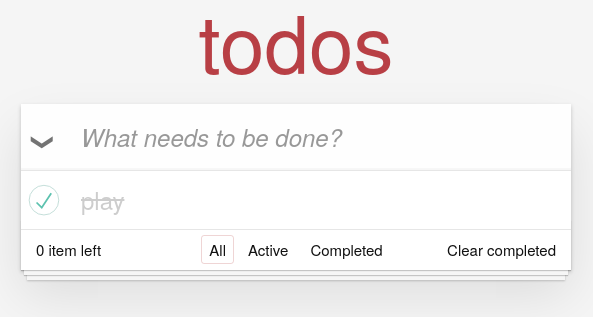
Test: 编辑任务 › 修改任务项文本按下 ESC 后，应该取消编辑状态以及任务项文本保持不变
双击任务项文本获得编辑状态
Double-click the label with test id "todo-text": (103, 199) [21,171,571,229]
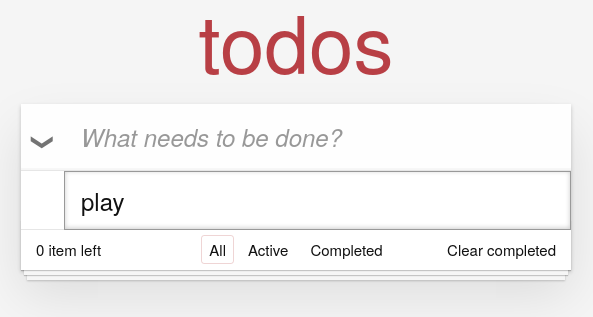
修改任务项文本 
Replace the text in the field with test id "todo-edit" with "hello": (318, 200) [64,171,571,230]
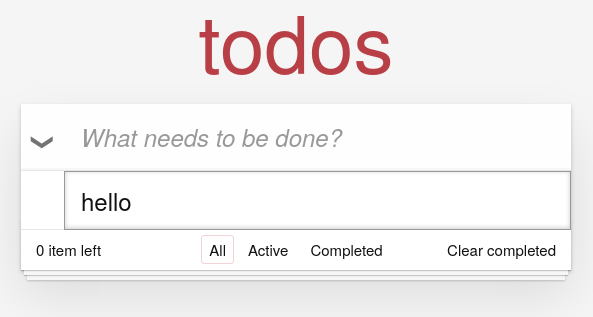
 ESC 取消 
Press Escape in the field with test id "todo-edit", box [64,171,571,230]
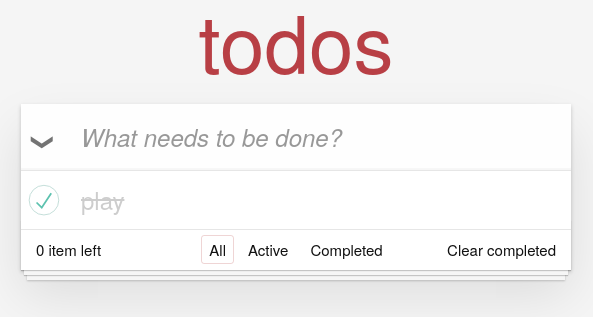
Check: the label with test id "todo-text" reads "play", box [81,182,124,217]
